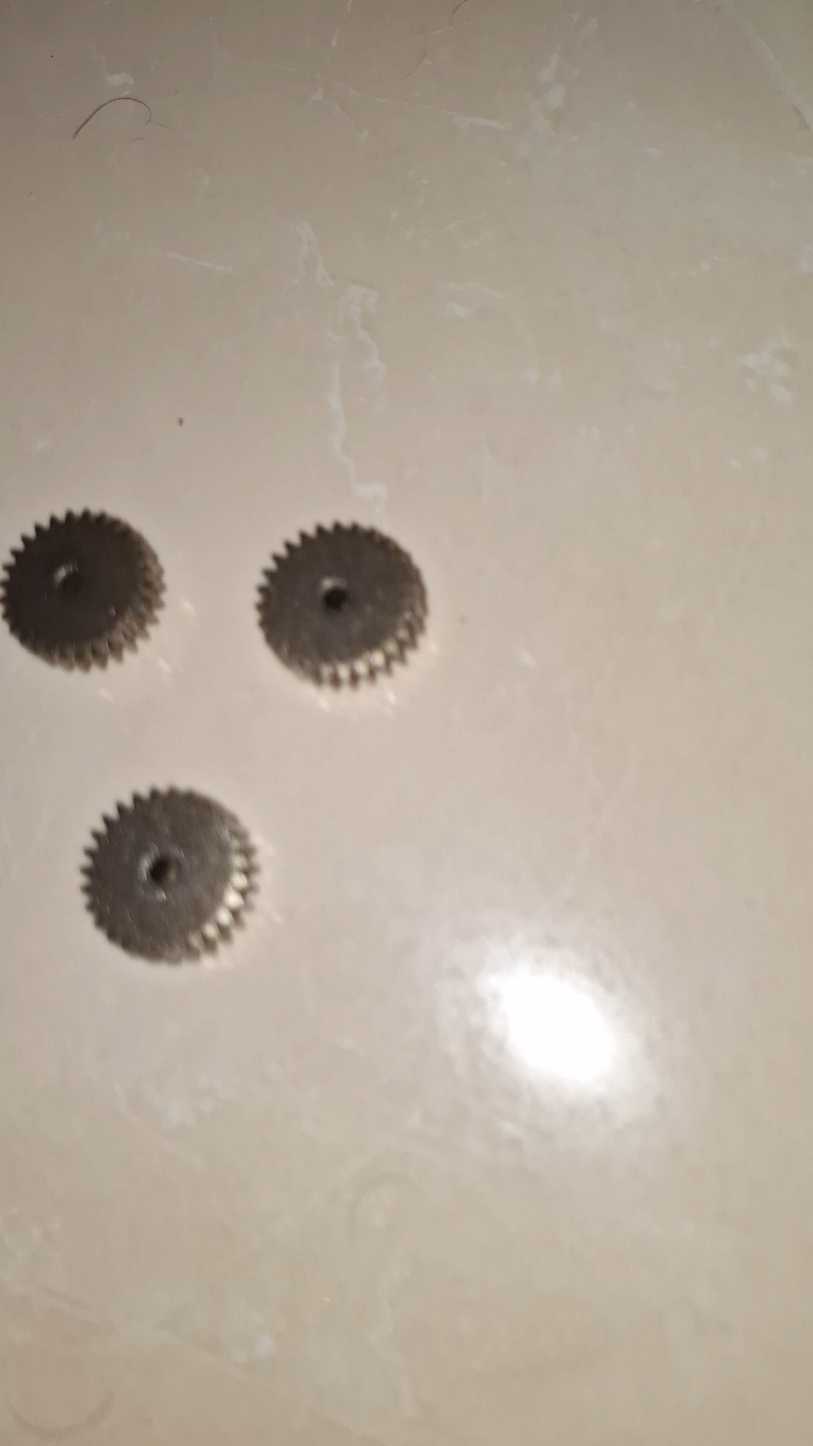spur gear: (82, 789, 256, 962), (258, 523, 427, 687), (0, 511, 163, 669)
